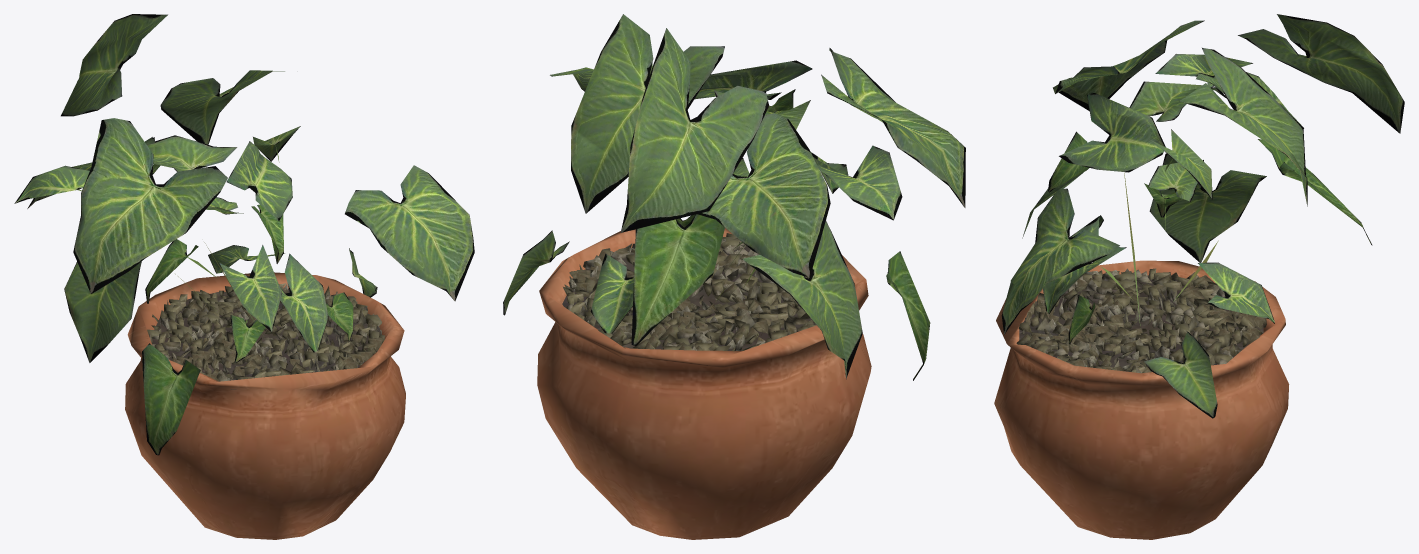
Rendered from potted_plant_02.glb.
3 views of the same model, side by side, from view 1: azimuth 30°, elevation 25°; view 2: azimuth 150°, elevation 25°; view 3: azimuth 270°, elevation 25° (orthographic). The views are drawn at different scales.
Parts seen in each view (by area): view 1: potted_plant_02_leaves, potted_plant_02_pot, potted_plant_02_dirt; view 2: potted_plant_02_leaves, potted_plant_02_pot, potted_plant_02_dirt; view 3: potted_plant_02_leaves, potted_plant_02_pot, potted_plant_02_dirt.
Part boxes in pixels (<box>): potted_plant_02_leaves: <box>14,14,474,455</box>; potted_plant_02_pot: <box>125,272,405,539</box>; potted_plant_02_dirt: <box>147,283,384,389</box>; potted_plant_02_leaves: <box>503,14,965,380</box>; potted_plant_02_pot: <box>537,228,871,539</box>; potted_plant_02_dirt: <box>562,233,816,351</box>; potted_plant_02_leaves: <box>1001,14,1404,418</box>; potted_plant_02_pot: <box>994,260,1289,539</box>; potted_plant_02_dirt: <box>1016,268,1266,373</box>.
Bounding box in the file's own units: 0.7009 × 0.8395 × 0.6554.
Materials: 2 (2 with a texture image).
